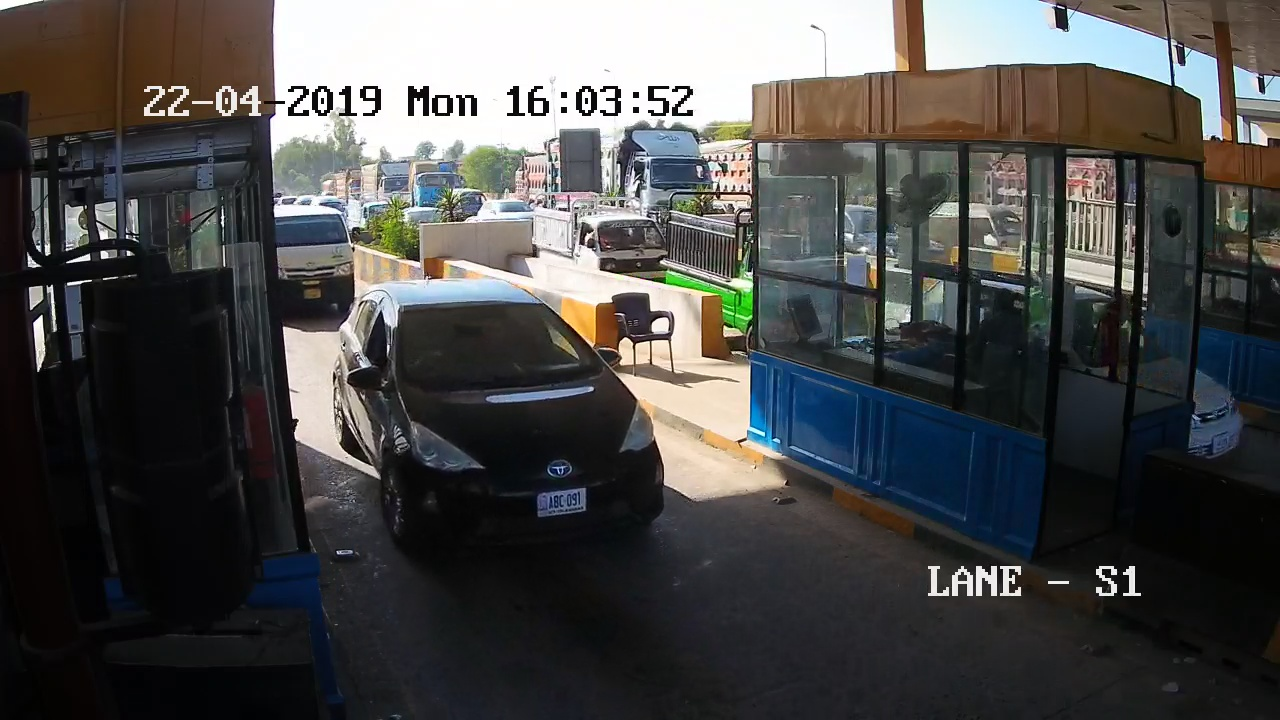Number Plate (Car): (538, 488, 584, 517)
